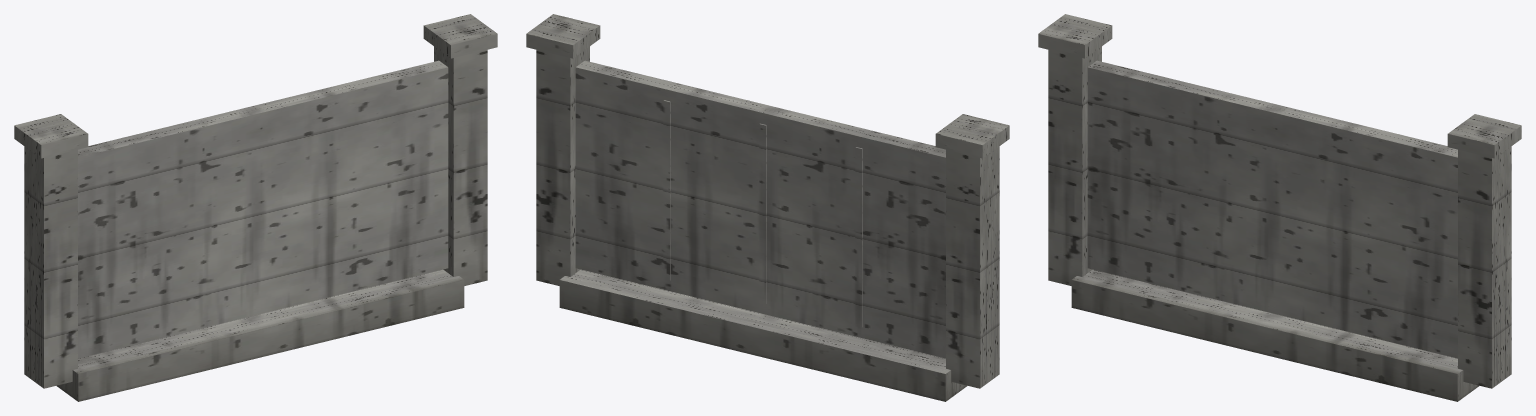
The model's file is wall-bay.glb.
The picture shows the model from 3 angles, left to right: view 1: azimuth 30°, elevation 25°; view 2: azimuth 150°, elevation 25°; view 3: azimuth 330°, elevation 25°; orthographic projection.
Visible parts, largest first — view 1: wall_bay; view 2: wall_bay; view 3: wall_bay.
Part boxes in pixels (x1,y1,x2,y2): wall_bay: (14, 14, 497, 401); wall_bay: (526, 14, 1009, 401); wall_bay: (1038, 14, 1521, 401).
Bounding box in the file's own units: 4.28 × 2.37 × 0.5.
1 material, 1 textured.
